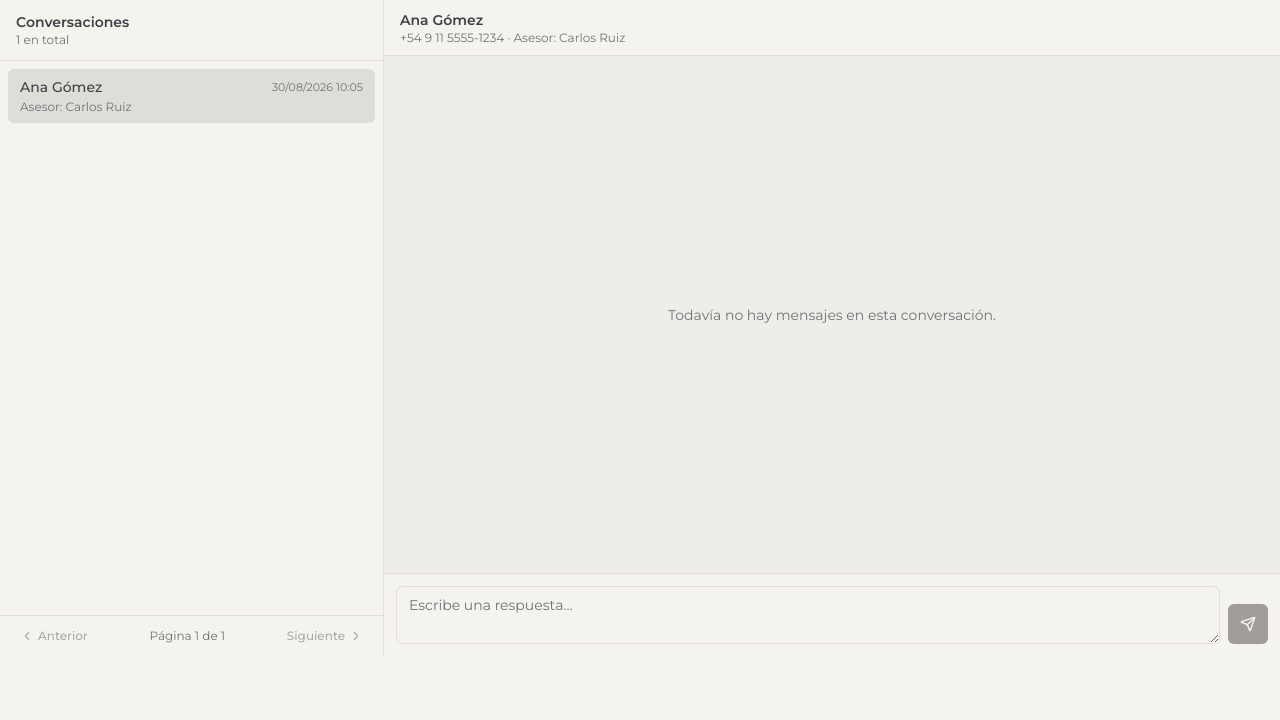
Test: ConversacionesPage — caja de respuesta › mientras el envío está en curso, el botón queda deshabilitado
Expected: the header with test id "encabezado-conversacion" is shown, [384,0,1279,56]
Step 1. Type "Hola" into the text box named "Escribir mensaje" → (808, 615), box [396,586,1220,644]
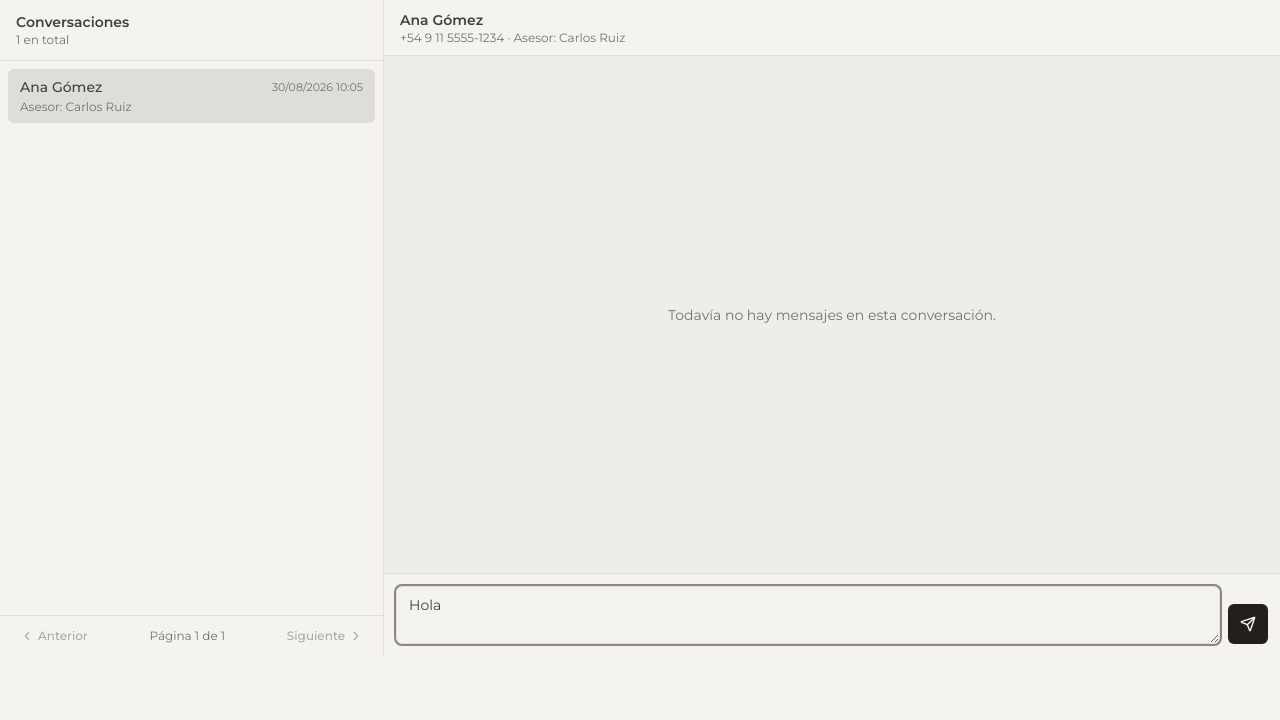
Step 2. Click the button named "Enviar mensaje" → click(1248, 624), box [1228,604,1268,644]
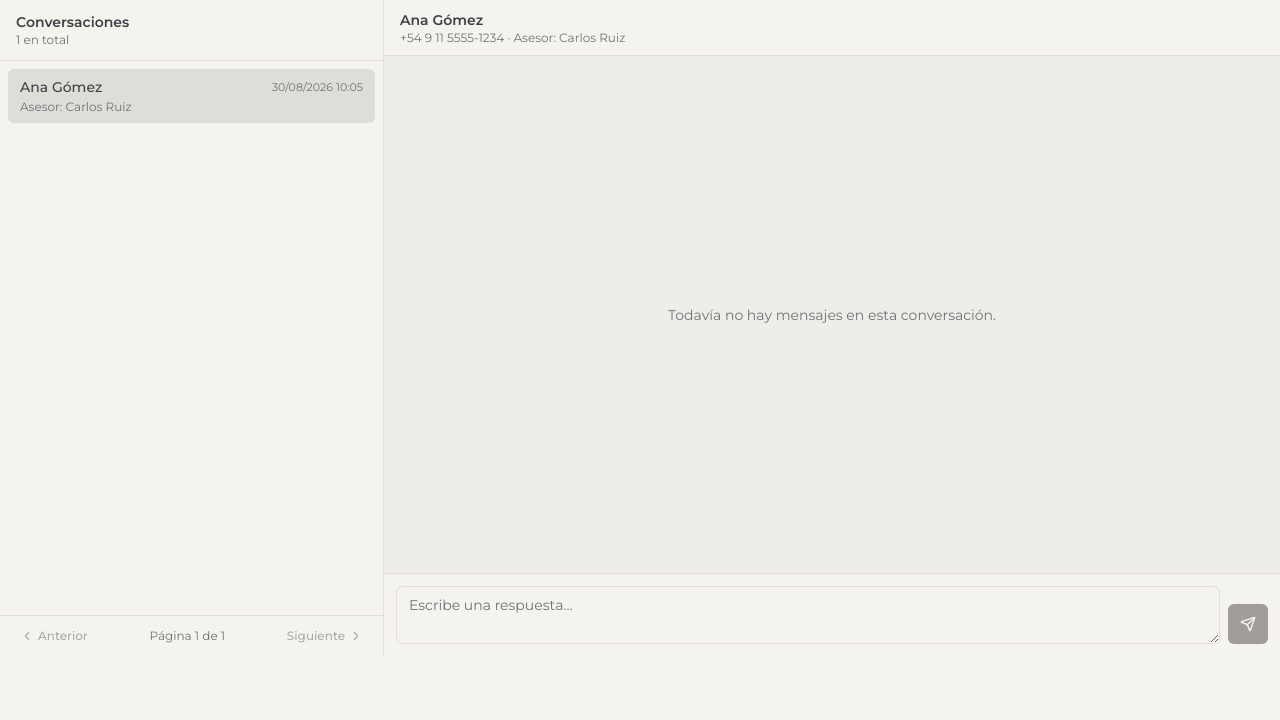
Expected: the button named "Enviar mensaje" is disabled, [1228,604,1268,644]
